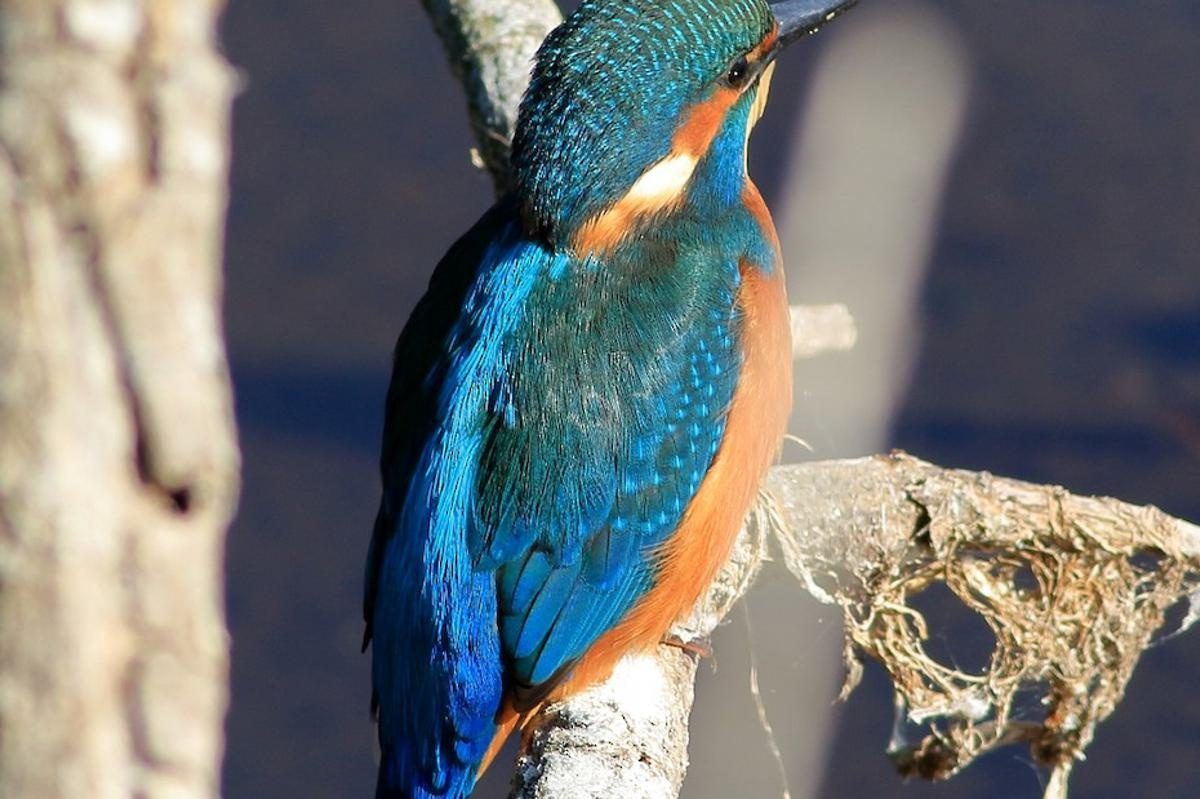kingfisher: (322, 1, 860, 799)
